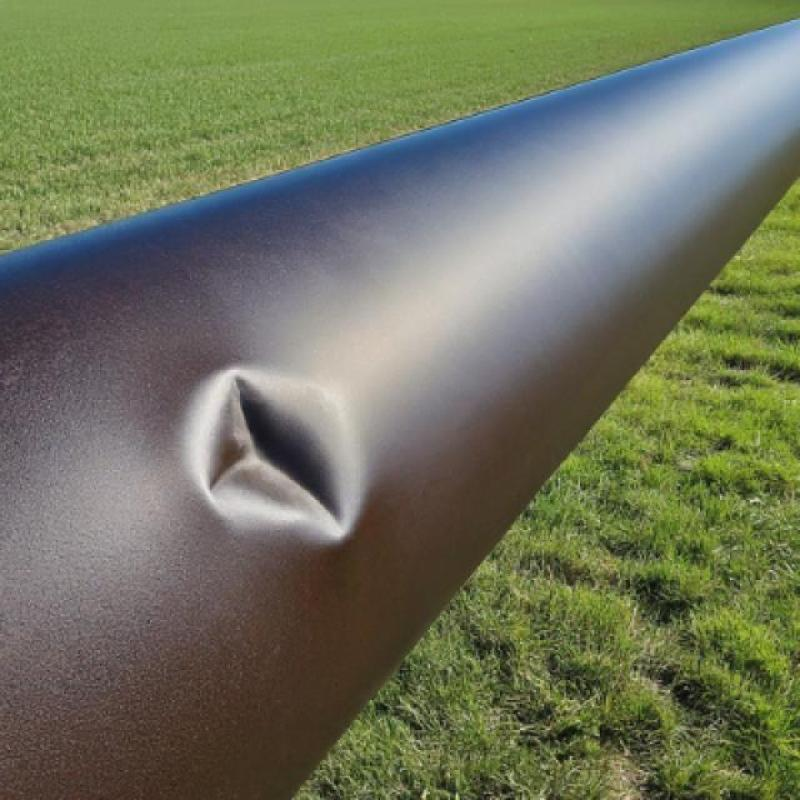Dent: (203, 373, 355, 535)
